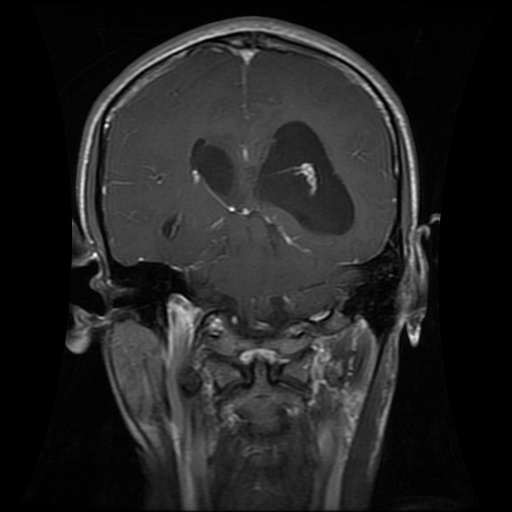glioma: (188, 116, 357, 243)
